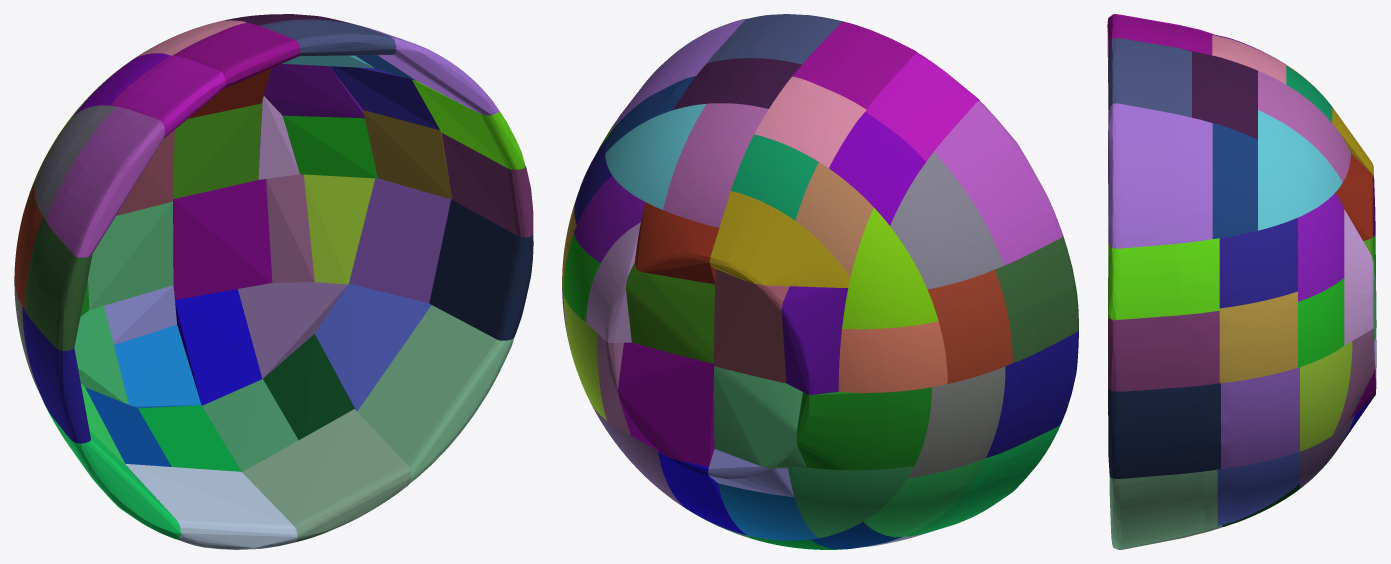
File: coacd_collision.obj
3 views of the same model, side by side, from view 1: azimuth 30°, elevation 25°; view 2: azimuth 150°, elevation 25°; view 3: azimuth 270°, elevation 25° (orthographic). The views are drawn at different scales.
Visible parts, largest first — view 1: geometry_39, geometry_0, geometry_11, geometry_21, geometry_38, geometry_6, geometry_46, geometry_47, geometry_5, geometry_3, geometry_30, geometry_1 (+32 smaller); view 2: geometry_38, geometry_8, geometry_11, geometry_45, geometry_48, geometry_7, geometry_3, geometry_4, geometry_19, geometry_9, geometry_13, geometry_31 (+30 smaller); view 3: geometry_40, geometry_21, geometry_28, geometry_17, geometry_39, geometry_46, geometry_2, geometry_37, geometry_18, geometry_16, geometry_44, geometry_26 (+14 smaller).
Part boxes in pixels (bbox=[...]): geometry_39: bbox=[357, 305, 513, 482]; geometry_0: bbox=[242, 409, 411, 541]; geometry_11: bbox=[173, 179, 272, 299]; geometry_21: bbox=[429, 199, 533, 340]; geometry_38: bbox=[45, 106, 164, 257]; geometry_6: bbox=[125, 464, 297, 549]; geometry_46: bbox=[349, 178, 450, 303]; geometry_47: bbox=[314, 283, 431, 411]; geometry_5: bbox=[175, 289, 262, 405]; geometry_3: bbox=[88, 201, 173, 309]; geometry_30: bbox=[173, 103, 261, 199]; geometry_1: bbox=[238, 282, 347, 378]; geometry_38: bbox=[934, 101, 1063, 265]; geometry_8: bbox=[796, 387, 931, 470]; geometry_11: bbox=[618, 342, 714, 466]; geometry_45: bbox=[890, 152, 1004, 289]; geometry_48: bbox=[709, 191, 850, 287]; geometry_7: bbox=[663, 103, 768, 227]; geometry_3: bbox=[713, 366, 806, 468]; geometry_4: bbox=[842, 208, 938, 329]; geometry_19: bbox=[995, 236, 1078, 362]; geometry_9: bbox=[838, 321, 947, 392]; geometry_13: bbox=[714, 269, 789, 383]; geometry_31: bbox=[928, 269, 1012, 383]; geometry_40: bbox=[1108, 103, 1212, 248]; geometry_21: bbox=[1108, 383, 1220, 478]; geometry_28: bbox=[1108, 311, 1219, 391]; geometry_17: bbox=[1108, 238, 1219, 319]; geometry_39: bbox=[1109, 469, 1217, 549]; geometry_46: bbox=[1221, 367, 1299, 468]; geometry_2: bbox=[1258, 110, 1342, 230]; geometry_37: bbox=[1219, 291, 1297, 383]; geometry_18: bbox=[1219, 217, 1297, 308]; geometry_16: bbox=[1108, 38, 1191, 117]; geometry_44: bbox=[1212, 123, 1257, 238]; geometry_26: bbox=[1192, 51, 1257, 139].
Bounding box in the file's own units: 150 × 152 × 75.78.
